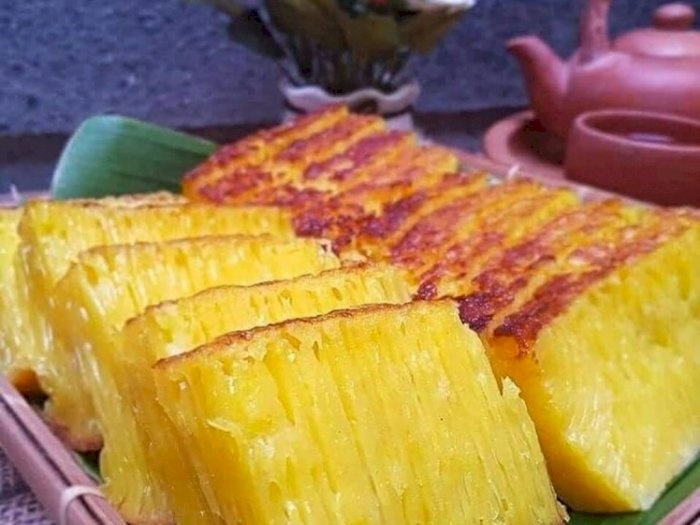bika_ambon: (134, 287, 553, 525), (75, 250, 414, 515)
